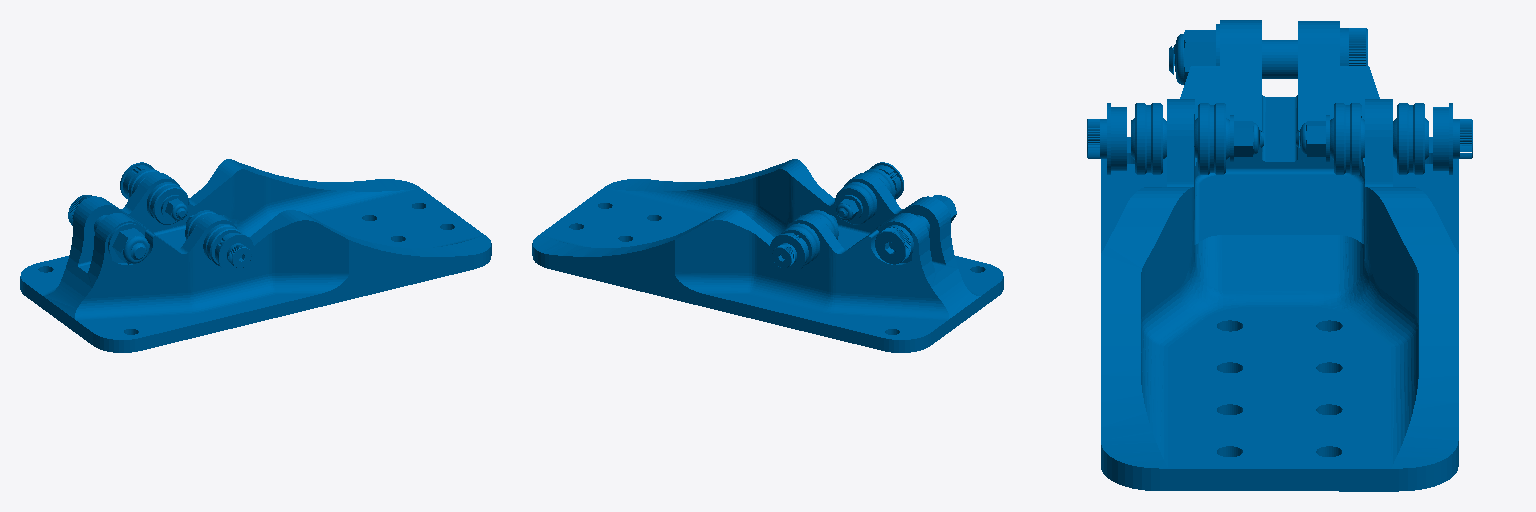
URDF robot description (draco):
<?xml version="1.0" ?>
<robot name="draco" xmlns:xacro="http://ros.org/wiki/xacro">

    <link name="world"/>
    <link name="body">
        <inertial>
            <origin rpy="0 0 0" xyz="0 0 0"/>
            <mass value="11.313"/>
            <inertia ixx="0.25" ixy="-0.002" ixz="0.006" iyy="0.268" iyz="0.002" izz="0.114"/>
        </inertial>
        <visual>
            <origin rpy="1.57 0 0" xyz = "-0.27 0.139 -0.115"/>
            <geometry>
                <mesh filename="meshes/body.STL" scale="0.001 0.001 0.001"/>
            </geometry>
        </visual>
        <!--<collision>-->
            <!--<origin rpy="1.57 0 0" xyz = "-0.27 0.139 -0.115"/>-->
            <!--<geometry>-->
                <!--<mesh filename="meshes/body.STL" scale="0.001 0.001 0.001"/>-->
            <!--</geometry>-->
        <!--</collision>-->
    </link>

    <joint name="ground_joint" type="floating">
        <origin xyz="0 0 2.0" rpy="0 0 0" />
        <parent link="world" />
        <child link="body" />
    </joint>

    <joint name="bodyPitch" type="continuous">
        <origin rpy="0.0 0.0 0.0" xyz="0.007 -0.007 -0.115"/>
        <axis xyz="0 1 0"/>
        <parent link="body"/>
        <child link="upperLeg"/>
    </joint>

    <link name="upperLeg">
        <inertial>
            <origin rpy="0 0 0" xyz="0.0061 0 -0.2473"/>
            <mass value="5.4818"/>
            <inertia ixx="0.0777" ixy="-0.0001" ixz="-0.0005" iyy="0.0761" iyz="0.0084" izz="0.0061"/>
        </inertial>
        <visual>
            <origin rpy="0 3.14 -1.57" xyz="-0.0735 -0.087 0.03"/>
            <geometry>
                <mesh filename="meshes/upperLeg.STL" scale="0.001 0.001 0.001"/>
            </geometry>
        </visual>
        <!--<collision>-->
            <!--<origin rpy="0 3.14 -1.57" xyz="-0.0735 -0.087 0.03"/>-->
            <!--<geometry>-->
                <!--<mesh filename="meshes/upperLeg.STL" scale="0.001 0.001 0.001"/>-->
            <!--</geometry>-->
        <!--</collision>-->
    </link>

    <joint name="kneePitch" type="continuous">
        <origin rpy="0.0 0.0 0.0" xyz="0 0 -0.49"/>
        <axis xyz="0 1 0"/>
        <parent link="upperLeg"/>
        <child link="lowerLeg"/>
    </joint>

    <link name="lowerLeg">
        <inertial>
            <origin rpy="0 0 0" xyz="-0.0038 -0.0022 -0.2647"/>
            <mass value="3.7701"/>
            <inertia ixx="0.0777" ixy="-0.0001" ixz="-0.0005" iyy="0.0761" iyz="0.0084" izz="0.0061"/>
        </inertial>
        <visual>
            <origin rpy="0 0 -1.57" xyz="-0.075 0.05 -0.513"/>
            <geometry>
                <mesh filename="meshes/lowerLeg.STL" scale="0.001 0.001 0.001"/>
            </geometry>
        </visual>
        <!--<collision>-->
            <!--<origin rpy="0 0 -1.57" xyz="-0.075 0.05 -0.513"/>-->
            <!--<geometry>-->
                <!--<mesh filename="meshes/lowerLeg.STL" scale="0.001 0.001 0.001"/>-->
            <!--</geometry>-->
        <!--</collision>-->
    </link>

    <joint name="ankle" type="continuous">
        <origin rpy="0.0 0.0 0.0" xyz="0 0 -0.49"/>
        <axis xyz="0 1 0"/>
        <parent link="lowerLeg"/>
        <child link="foot"/>
    </joint>

    <link name="foot">
        <inertial>
            <origin rpy="0 0 0" xyz="0.0183 0 -0.0232"/>
            <mass value="0.6817573"/>
            <inertia ixx="0.001766" ixy="-0.0000003" ixz="0.0000006" iyy="0.0020957" iyz="-0.0001134" izz="0.0004916"/>
        </inertial>
        <visual>
            <!--<origin rpy="1.57 0 1.57" xyz="0 0 0"/>-->
            <origin rpy="1.57 0 1.57" xyz="-0.07 -0.05 -0.03"/>
            <geometry>
                <mesh filename="meshes/foot.STL" scale="0.001 0.001 0.001"/>
            </geometry>
        </visual>
        <collision>
            <origin rpy="1.57 0 1.57" xyz="-0.07 -0.05 -0.03"/>
            <geometry>
                <mesh filename="meshes/foot.STL" scale="0.001 0.001 0.001"/>
            </geometry>
        </collision>
    </link>

<!-- Foot Virtual Contact Point -->
   <link name="FootOutFront">
    <inertial>
      <mass value="0.000000000001"/>
      <origin rpy="0 0 0" xyz="0 0 0"/>
      <inertia ixx="1.0e-12" ixy="0.0" ixz="0.0" iyy="1.0e-12" iyz="0.0" izz="1.0e-12"/>
    </inertial>
  </link>
  <joint name="foot_Offset1" type="fixed">
    <origin rpy="0.0 0.0 0.0" xyz="0.135 0.04 -0.034"/>
    <axis xyz="0 0 1"/>
    <parent link="foot"/>
    <child link="FootOutFront"/>
  </joint>

  <link name="FootOutBack">
    <inertial>
      <mass value="0.000000000001"/>
      <origin rpy="0 0 0" xyz="0 0 0"/>
      <inertia ixx="1.0e-12" ixy="0.0" ixz="0.0" iyy="1.0e-12" iyz="0.0" izz="1.0e-12"/>
    </inertial>
  </link>
  <joint name="foot_Offset2" type="fixed">
    <origin rpy="0.0 0.0 0.0" xyz="-0.059 0.04 -0.034"/>
    <axis xyz="0 0 1"/>
    <parent link="foot"/>
    <child link="FootOutBack"/>
  </joint>

  <link name="FootInBack">
    <inertial>
      <mass value="0.000000000001"/>
      <origin rpy="0 0 0" xyz="0 0 0"/>
      <inertia ixx="1.0e-12" ixy="0.0" ixz="0.0" iyy="1.0e-12" iyz="0.0" izz="1.0e-12"/>
    </inertial>
  </link>
  <joint name="foot_Offset3" type="fixed">
    <origin rpy="0.0 0.0 0.0" xyz="-0.059 -0.04 -0.034"/>
    <axis xyz="0 0 1"/>
    <parent link="foot"/>
    <child link="FootInBack"/>
  </joint>

  <link name="FootInFront">
    <inertial>
      <mass value="0.000000000001"/>
      <origin rpy="0 0 0" xyz="0 0 0"/>
      <inertia ixx="1.0e-12" ixy="0.0" ixz="0.0" iyy="1.0e-12" iyz="0.0" izz="1.0e-12"/>
    </inertial>
  </link>
  <joint name="foot_Offset4" type="fixed">
    <origin rpy="0.0 0.0 0.0" xyz="0.135 -0.04 -0.034"/>
    <axis xyz="0 0 1"/>
    <parent link="foot"/>
    <child link="FootInFront"/>
  </joint>

</robot>

--- Render facts (derived) ---
Views: 3 orthographic renders of the robot side by side, from view 1: azimuth 30°, elevation 25°; view 2: azimuth 150°, elevation 25°; view 3: azimuth 270°, elevation 25°.
Robot: draco — 9 links, 8 joints (3 continuous, 4 fixed, 1 floating); root link world; default pose: every joint at zero.
Links seen in each view (by area): view 1: foot; view 2: foot; view 3: foot.
Link boxes in pixels (left/top/right/bottom): foot: left=20, top=159, right=491, bottom=352; foot: left=532, top=159, right=1003, bottom=352; foot: left=1087, top=20, right=1472, bottom=491.
Size in the robot's own frame: 0.2001 by 0.097 by 0.0483 metres.
1 mesh visuals loaded from 4 distinct referenced files (1 binary STL); not drawn: 3 (reference not matched to a file when rendering).